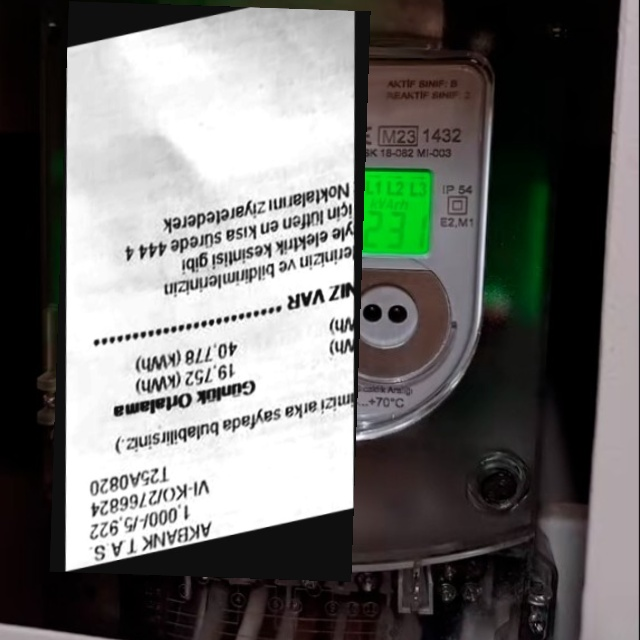electricity-bill: (49, 1, 371, 582)
